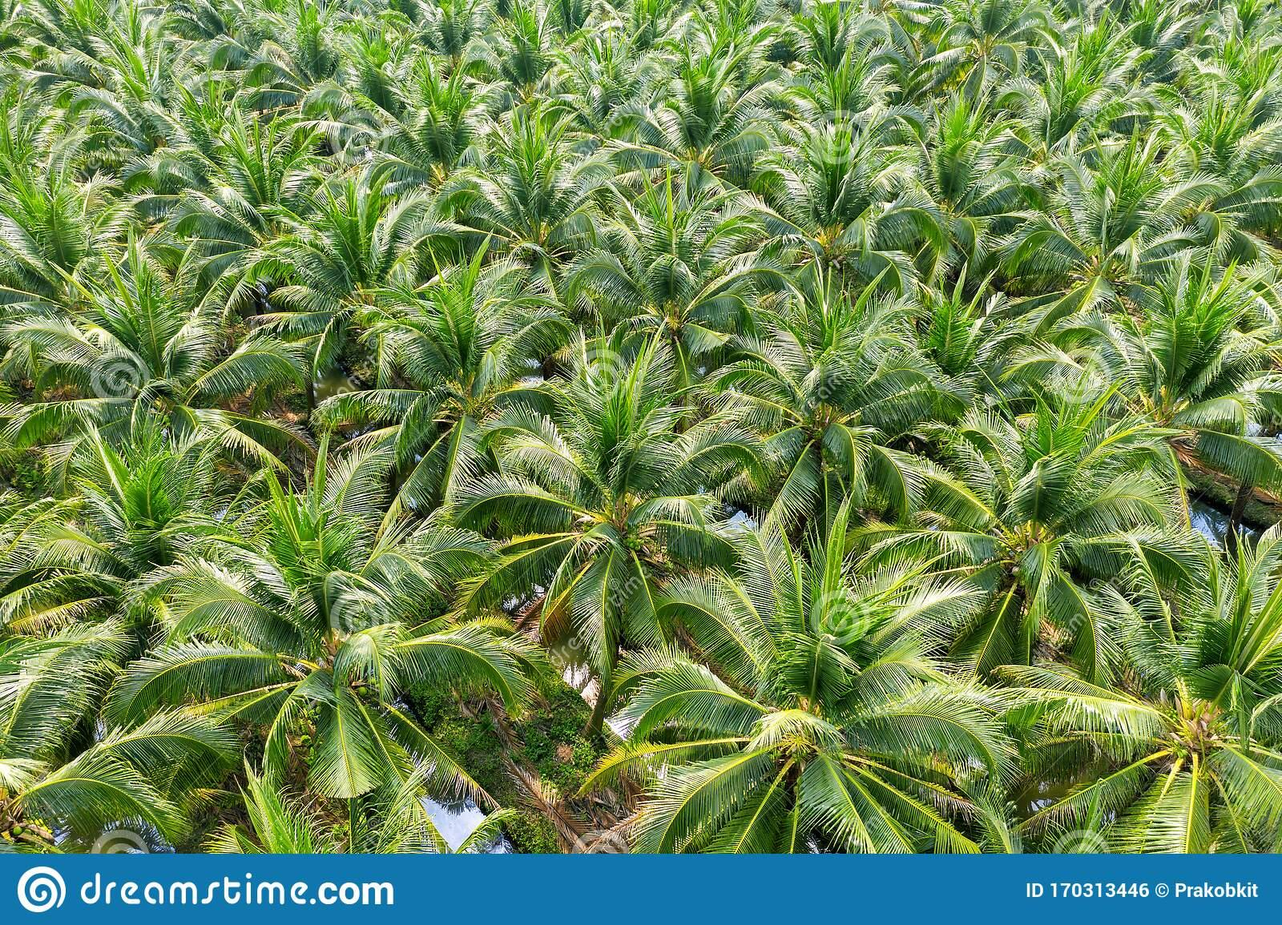coconut_tree: (135, 500, 514, 784), (631, 569, 1009, 853), (629, 567, 1007, 851), (1017, 569, 1281, 862), (438, 364, 791, 577), (832, 425, 1184, 638), (314, 226, 570, 500), (0, 270, 295, 486), (688, 259, 904, 520), (703, 177, 936, 344), (407, 121, 615, 293), (1096, 265, 1281, 452), (1022, 154, 1175, 318), (747, 138, 893, 263)
